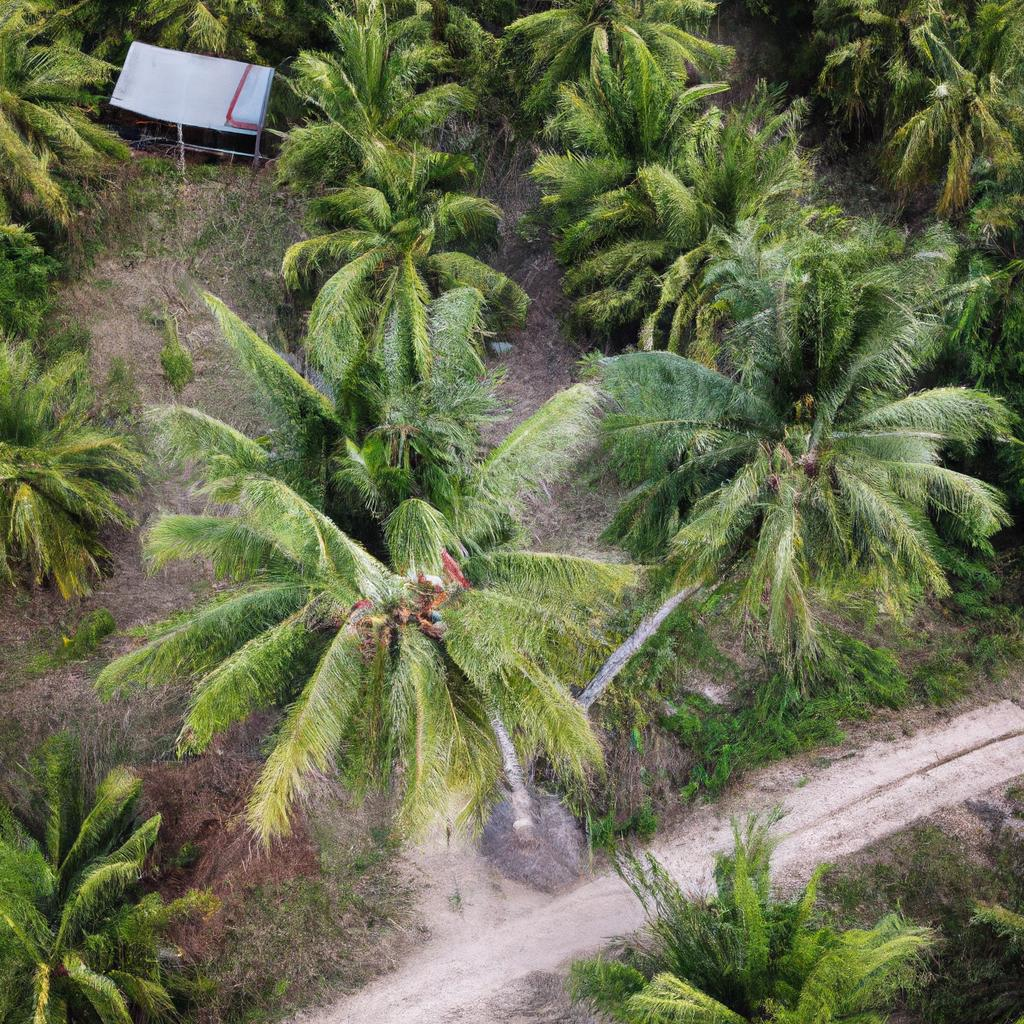coconut_tree: (120, 353, 703, 831), (560, 283, 1017, 643)
